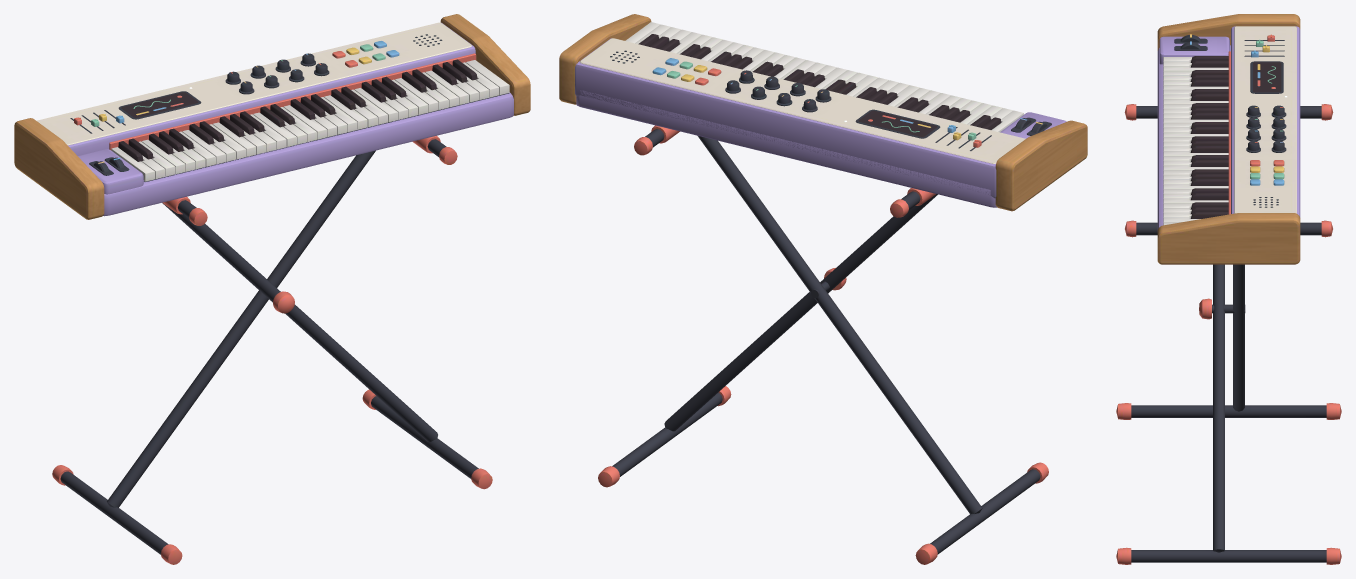
File: keyboard-synth.glb
3 views of the same model, side by side, from view 1: azimuth 30°, elevation 25°; view 2: azimuth 150°, elevation 25°; view 3: azimuth 270°, elevation 25° (orthographic). The views are drawn at different scales.
Visible parts, largest first — view 1: keyboard-synth_body; view 2: keyboard-synth_body; view 3: keyboard-synth_body.
Boxes of the visible parts, <box> form: keyboard-synth_body: <box>14,14,530,564</box>; keyboard-synth_body: <box>559,14,1087,564</box>; keyboard-synth_body: <box>1116,14,1341,564</box>.
Size of the model in its own units: 1.03 by 0.8768 by 0.474.
2 materials, 1 textured.
